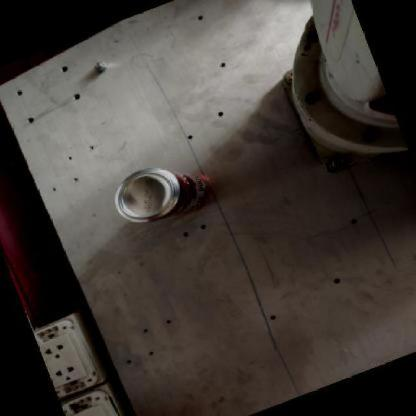Can: (113, 168, 213, 224)
